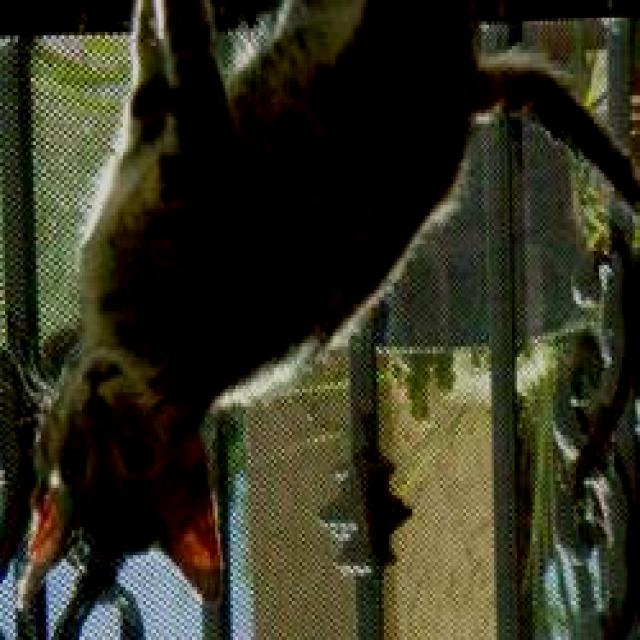Kucing: (12, 0, 640, 627)
